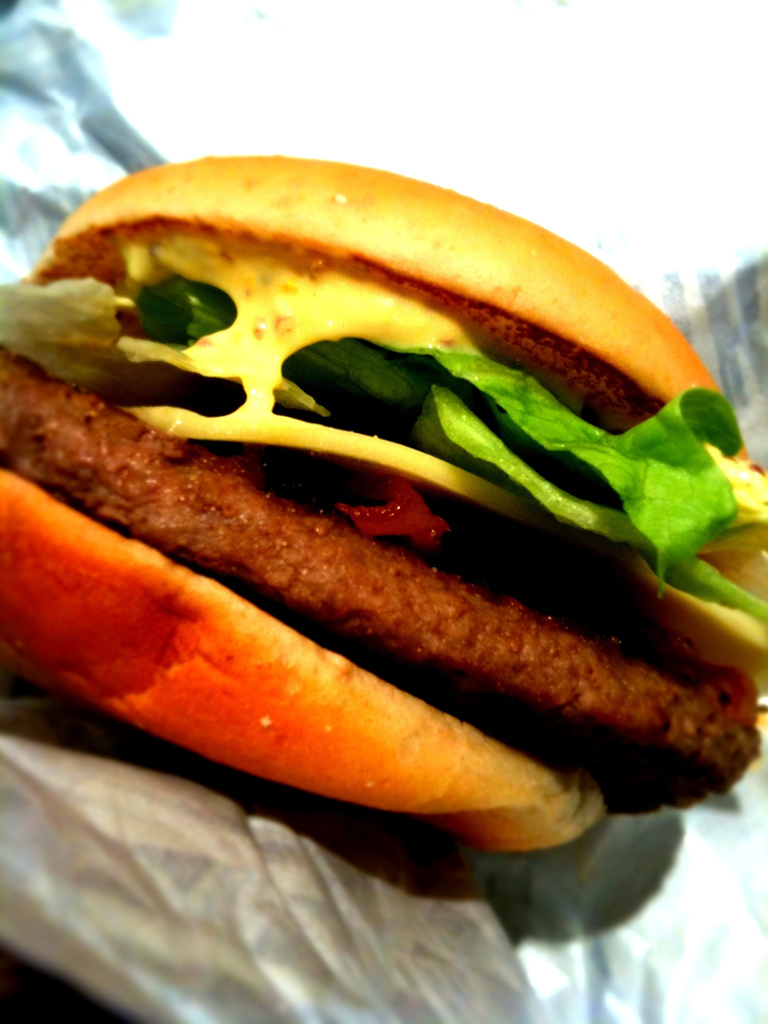Hamburger: (0, 158, 767, 945), (0, 154, 767, 855)
